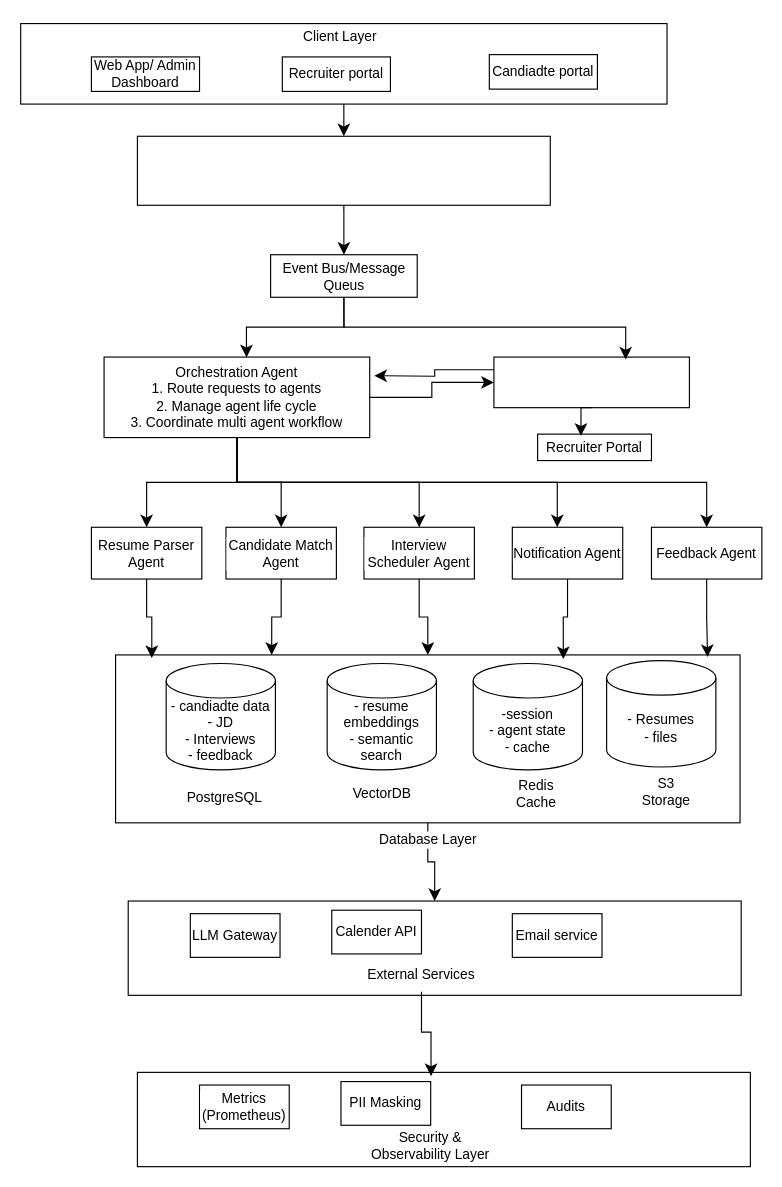
The diagram is 782 pixels wide and 1187 high, and some of its shapes have lost their labels. The centre of each missing label's shape, as x and y in pixels:
API Gateway / Load Balancer - Rate Limiting - Authentication: the point at 343,170
HITL Agent: the point at 591,382
